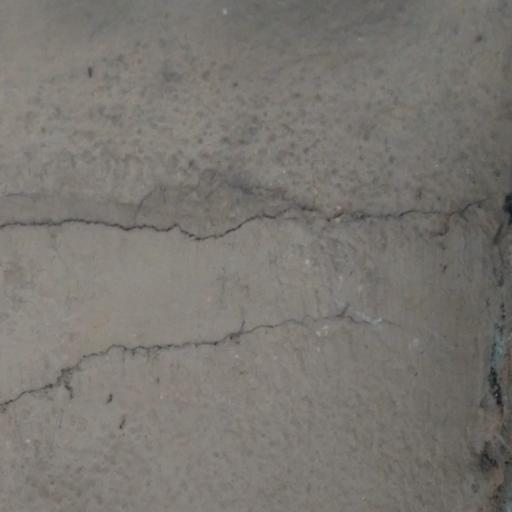minor_crack: (0, 299, 415, 413), (0, 171, 512, 256)
